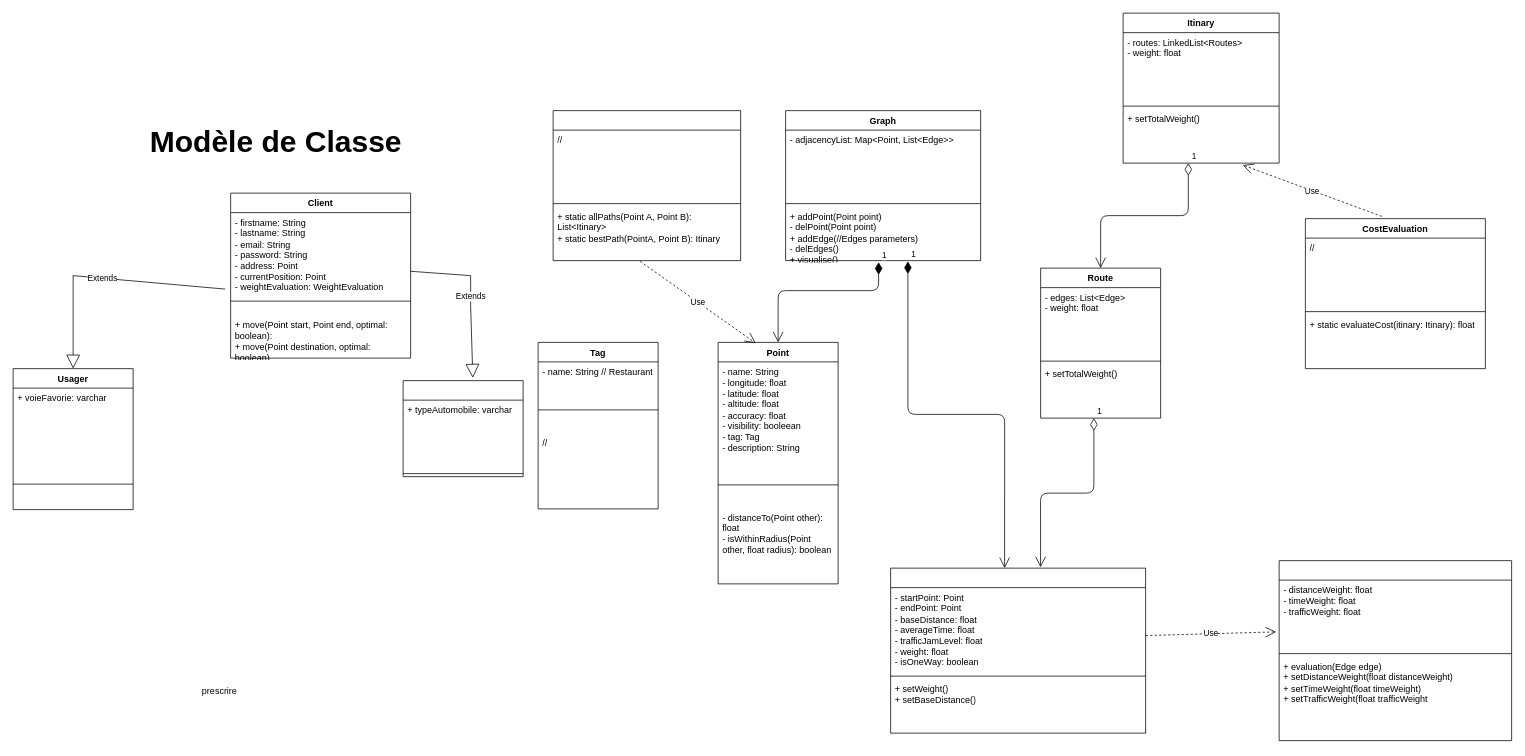
This 1525x756 diagram has some shape labels left out. The box of each missing label's shape, as (x1, y1, x2, y2) in pixels:
Conducteur: (402, 380, 523, 477)
Edge: (890, 567, 1146, 733)
PathFinder: (552, 110, 741, 261)
WeightEvaluation: (1278, 560, 1512, 741)
